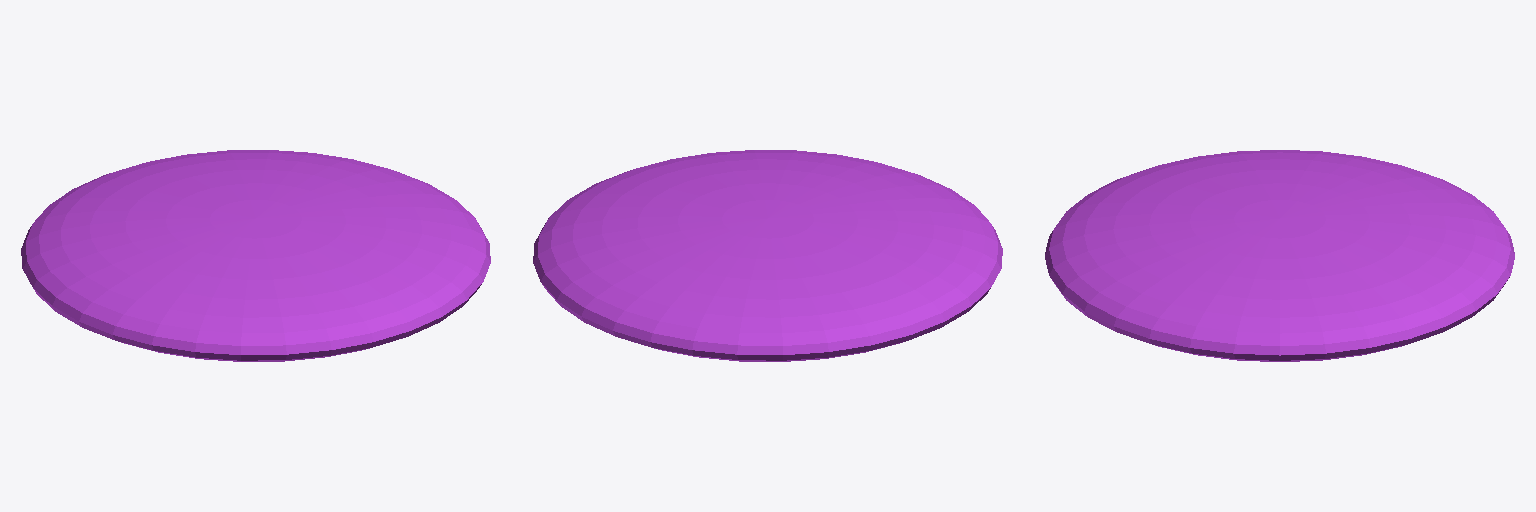
File: Enemy.obj
The picture shows the model from 3 angles: view 1: azimuth 30°, elevation 25°; view 2: azimuth 150°, elevation 25°; view 3: azimuth 270°, elevation 25°; orthographic projection.
Parts seen in each view (by area): view 1: Sphere001; view 2: Sphere001; view 3: Sphere001.
Boxes of the visible parts, box(x1,y1,x2,y2) form: Sphere001: box(21, 150, 490, 361); Sphere001: box(533, 150, 1002, 361); Sphere001: box(1045, 150, 1514, 361).
Bounding box in the file's own units: 98.15 × 17.26 × 98.15.